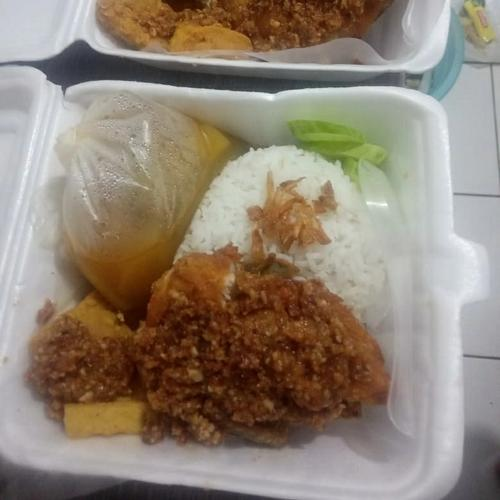daging: (158, 287, 329, 398)
kacang_legume: (60, 313, 116, 335)
makanan_berpati: (333, 249, 370, 288)
